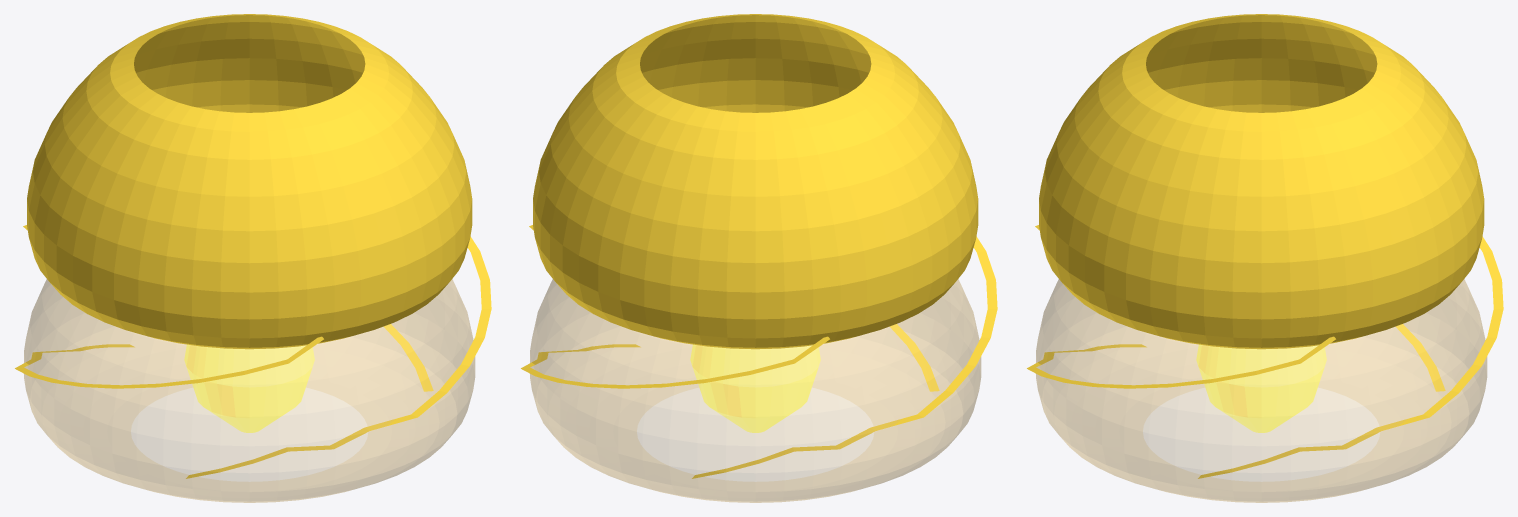
File: emberveil.glb
3 views of the same model, side by side, from view 1: azimuth 30°, elevation 25°; view 2: azimuth 150°, elevation 25°; view 3: azimuth 270°, elevation 25° (orthographic).
Visible parts, largest first — view 1: brass_band, glass_bell, ember_core, filigree_arc_01, filigree_arc, filigree_arc_02; view 2: brass_band, glass_bell, ember_core, filigree_arc, filigree_arc_02, filigree_arc_01; view 3: brass_band, glass_bell, ember_core, filigree_arc_02, filigree_arc_01, filigree_arc.
Boxes of the visible parts, <box> form: brass_band: <box>27,14,472,349</box>; glass_bell: <box>24,279,475,502</box>; ember_core: <box>184,344,314,432</box>; filigree_arc_01: <box>186,236,491,478</box>; filigree_arc: <box>15,336,323,388</box>; filigree_arc_02: <box>23,225,433,391</box>; brass_band: <box>533,14,978,349</box>; glass_bell: <box>530,279,981,502</box>; ember_core: <box>690,344,820,432</box>; filigree_arc: <box>692,236,997,478</box>; filigree_arc_02: <box>521,336,829,388</box>; filigree_arc_01: <box>529,225,939,391</box>; brass_band: <box>1039,14,1484,349</box>; glass_bell: <box>1036,279,1487,502</box>; ember_core: <box>1196,344,1326,432</box>; filigree_arc_02: <box>1198,236,1503,478</box>; filigree_arc_01: <box>1027,336,1335,388</box>; filigree_arc: <box>1035,225,1445,391</box>.
Size of what is drawn, in the model's own units: 2.44 by 2.05 by 2.41.
